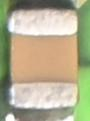Capacitor: (8, 7, 79, 111)
